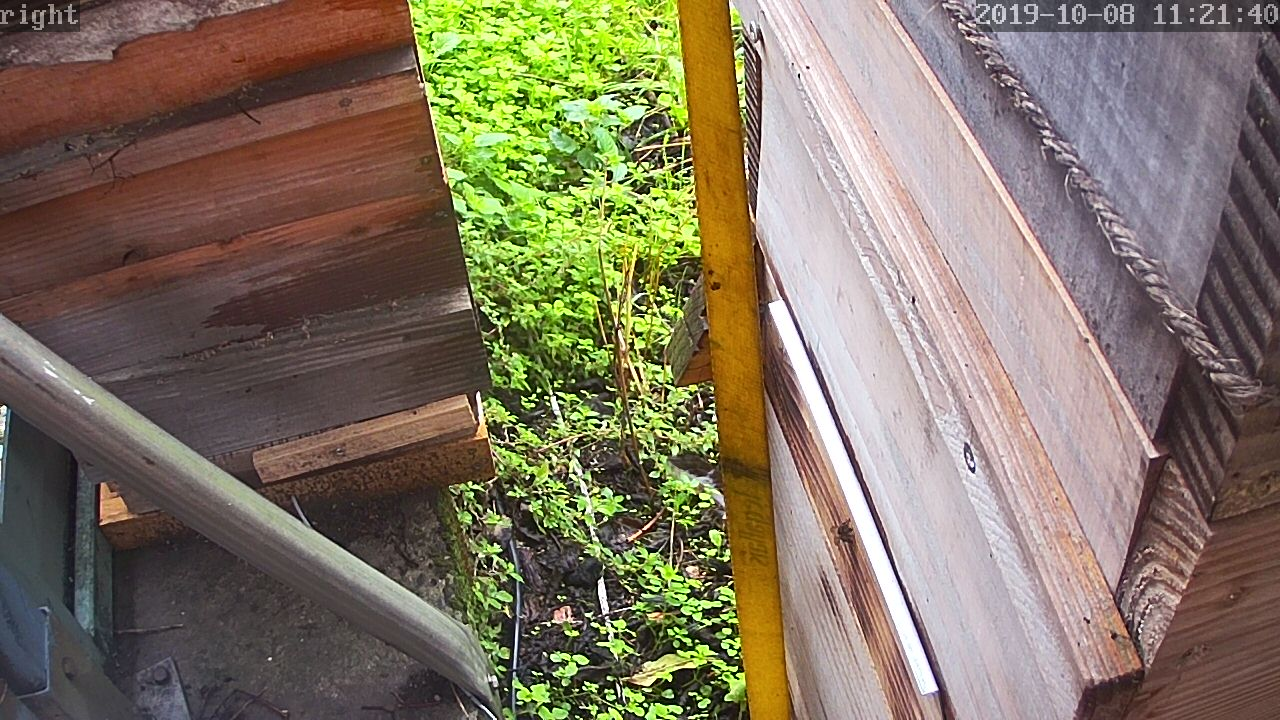bee: (830, 514, 861, 551)
